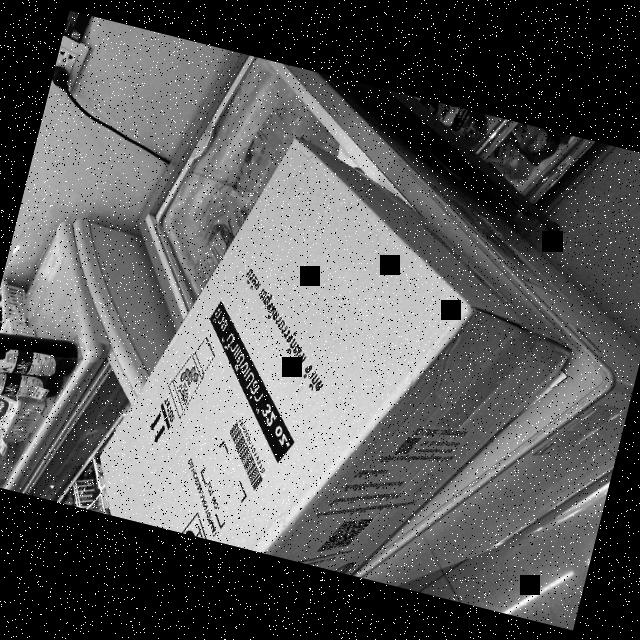cardboard_box: (70, 107, 624, 618)
